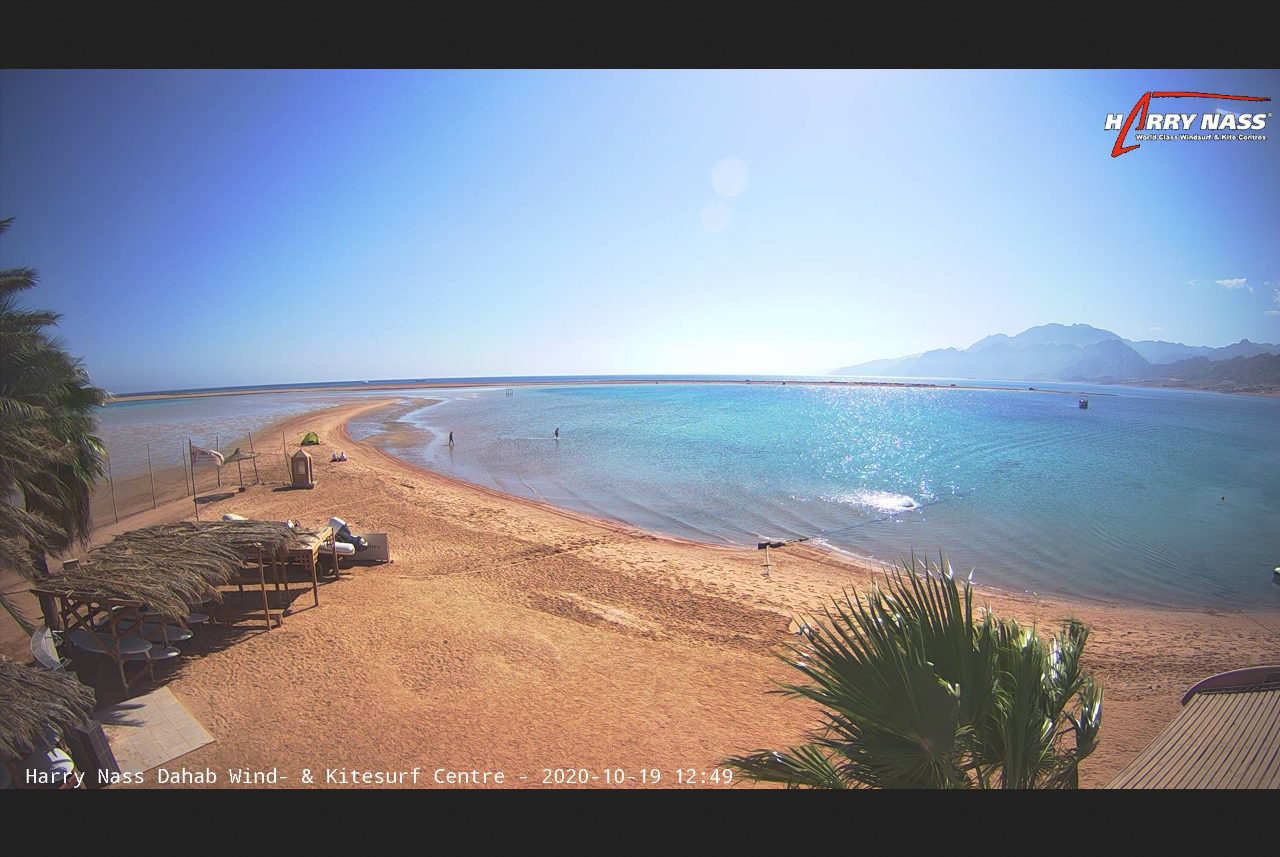yes: (189, 444, 226, 468)
